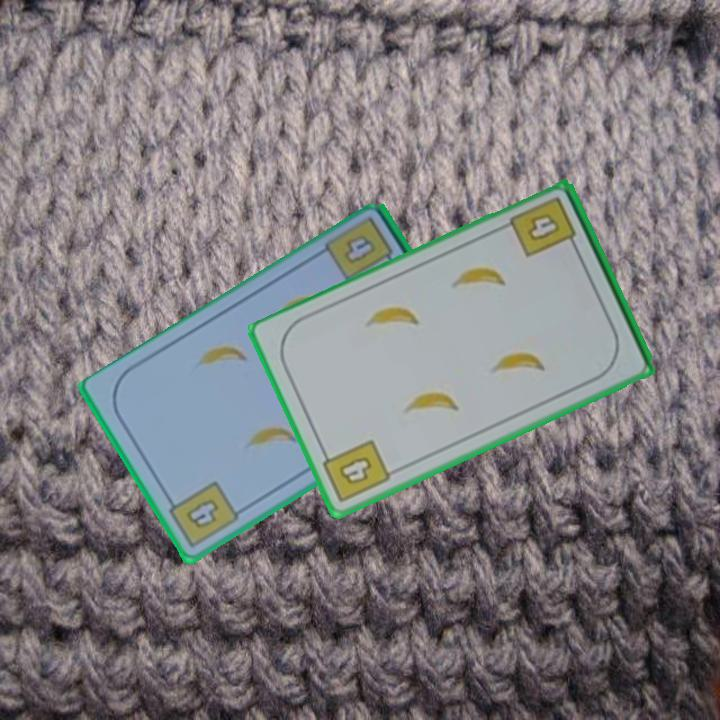4b: (162, 478, 242, 551), (317, 436, 394, 506), (506, 193, 581, 261), (339, 231, 379, 268)
